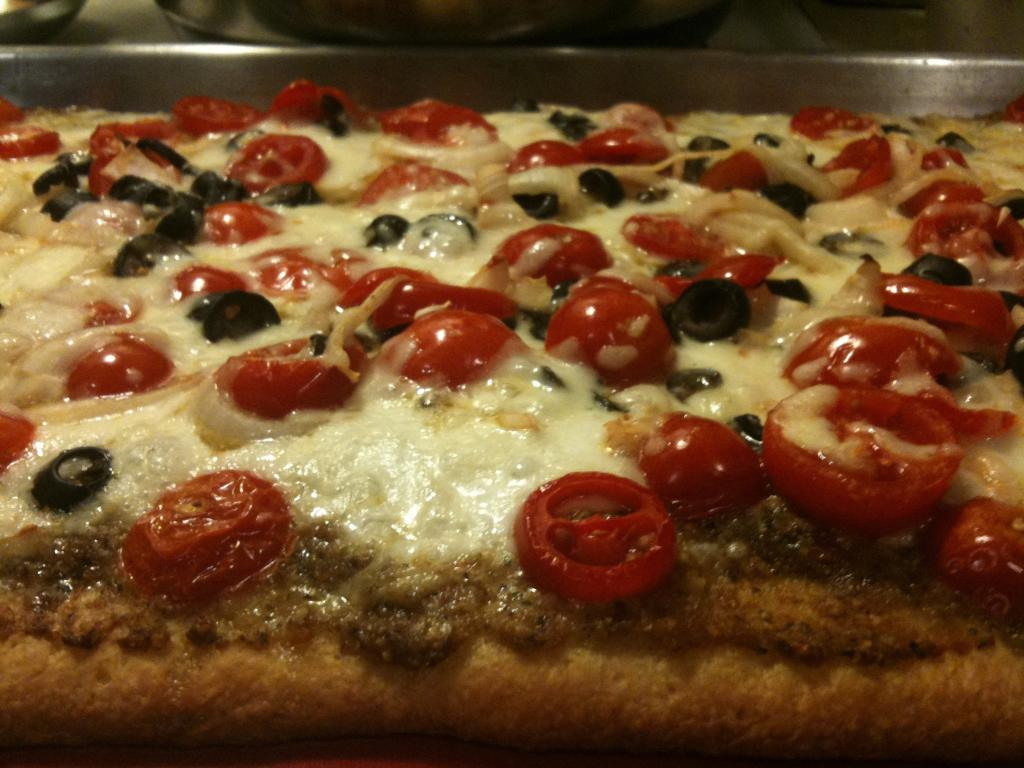Pizza: (1, 64, 1024, 737)
